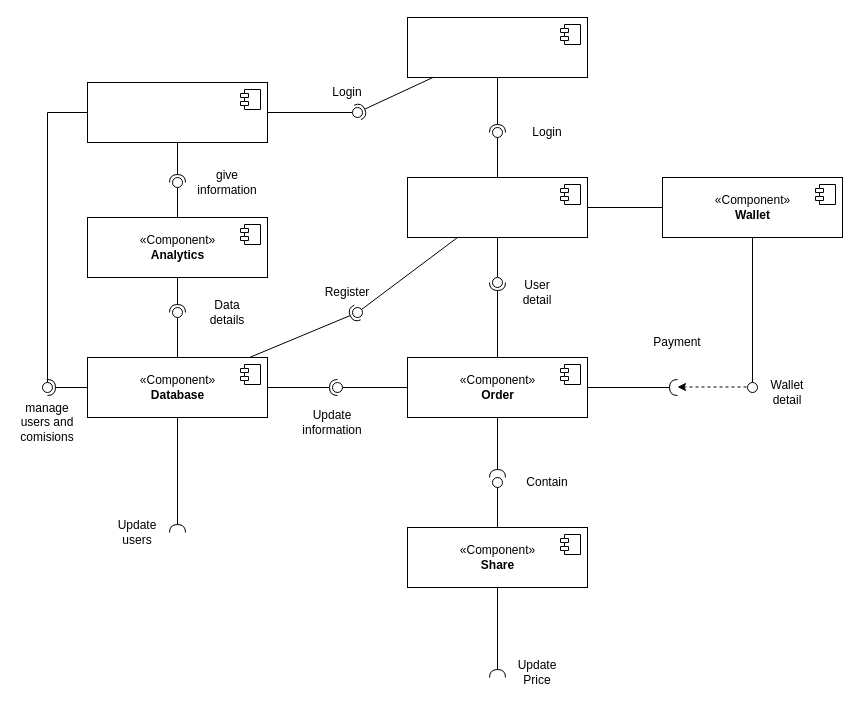
This 860x705 diagram has some shape labels left out. Each missing label, with the centre of its shape:
"«Component» Admin Account" goes at (177,112).
"«Component» User Account" goes at (497,207).
"«Component» Web App" goes at (497,47).
